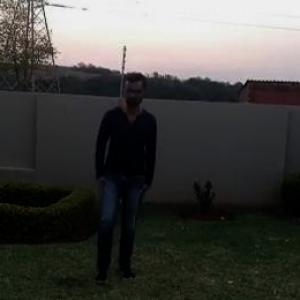follow: (84, 59, 154, 299)
